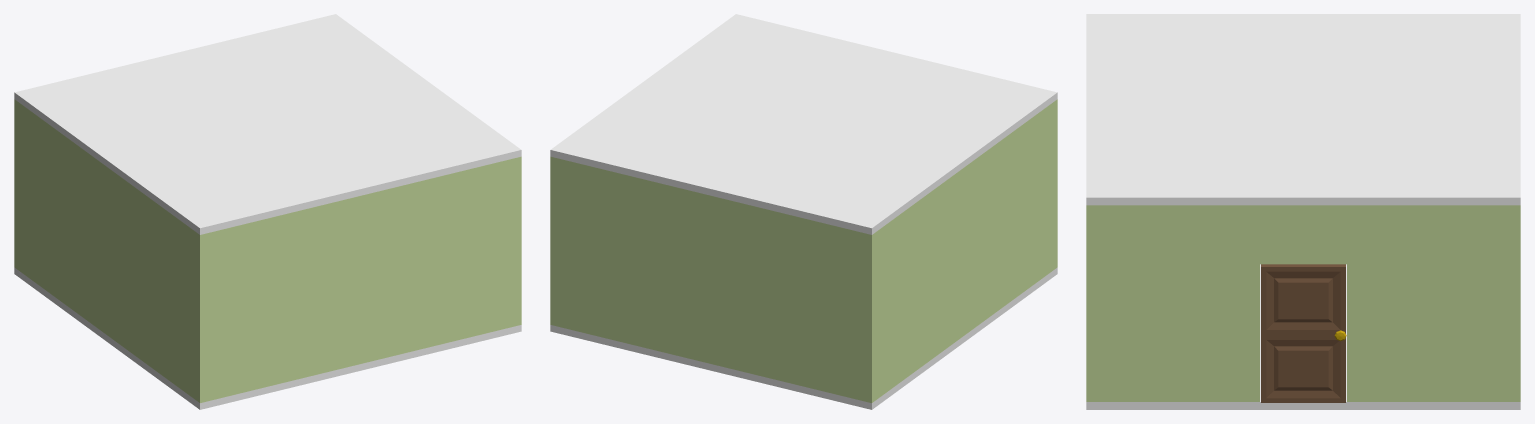
Rendered from Room_4.glb.
The picture shows the model from 3 angles, left to right: view 1: azimuth 30°, elevation 25°; view 2: azimuth 150°, elevation 25°; view 3: azimuth 270°, elevation 25°; orthographic projection. The views are drawn at different scales.
Visible parts, largest first — view 1: Room_4_Walls, Room_4_Roof, Room_4_Floor; view 2: Room_4_Walls, Room_4_Roof, Room_4_Floor; view 3: Room_4_Roof, Room_4_Walls, Room_4_Door, Room_4_Floor.
Part boxes in pixels (x1,y1,x2,y2): Room_4_Walls: (14,99,521,402); Room_4_Roof: (14,14,521,234); Room_4_Floor: (14,267,521,409); Room_4_Walls: (550,99,1057,402); Room_4_Roof: (550,14,1057,234); Room_4_Floor: (550,267,1057,409); Room_4_Roof: (1086,14,1520,205); Room_4_Walls: (1086,205,1520,401); Room_4_Door: (1261,264,1346,402); Room_4_Floor: (1086,264,1520,409).
Size of what is drawn, in the model's own units: 5.09 by 2.7 by 5.
4 materials, 2 textured.
